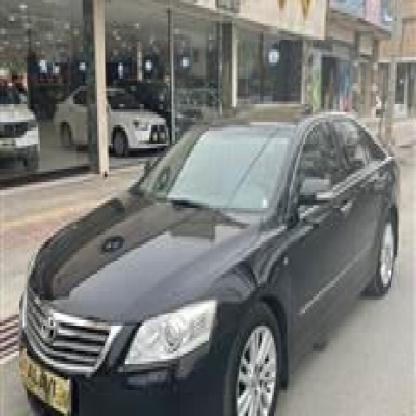Car: (7, 117, 409, 413), (47, 75, 170, 156), (0, 75, 50, 189)
